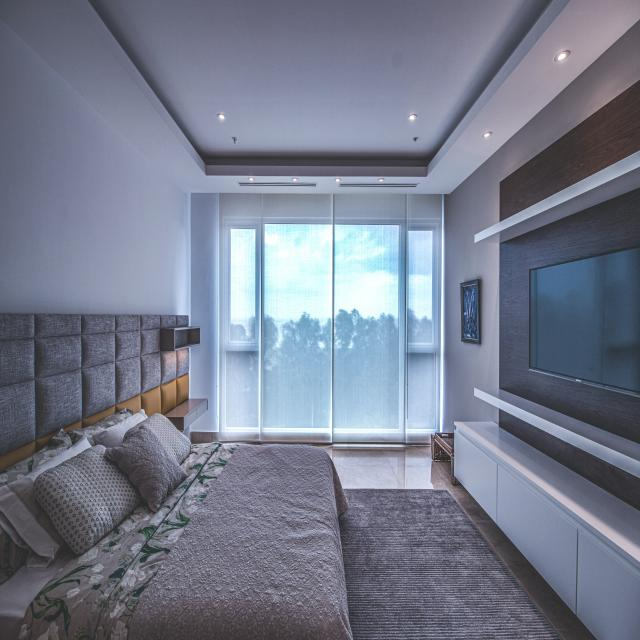floor: (307, 442, 598, 640)
wall: (442, 19, 640, 433), (0, 18, 188, 315), (499, 187, 640, 444), (499, 80, 640, 222), (499, 409, 640, 512), (189, 193, 219, 432)
